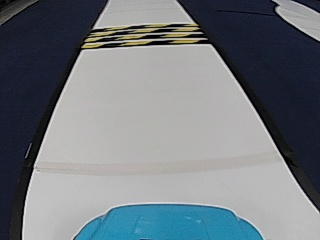bump: (97, 22, 192, 49)
